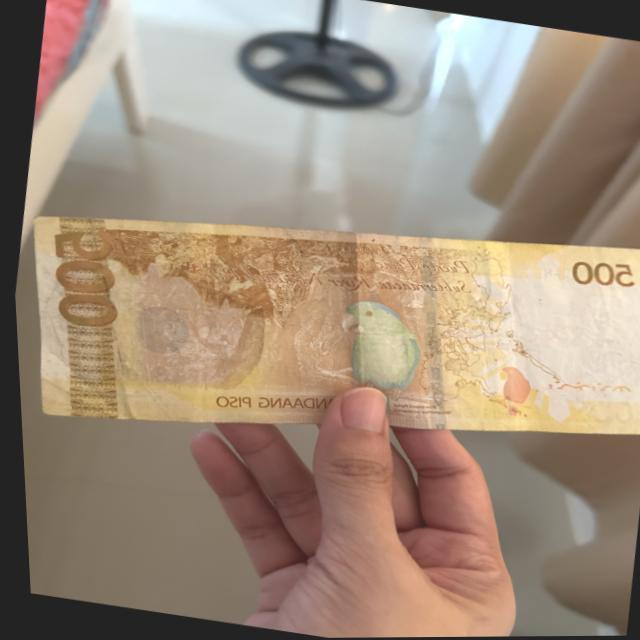see_through_mark: (530, 369, 633, 420)
watermark: (517, 286, 639, 402)
